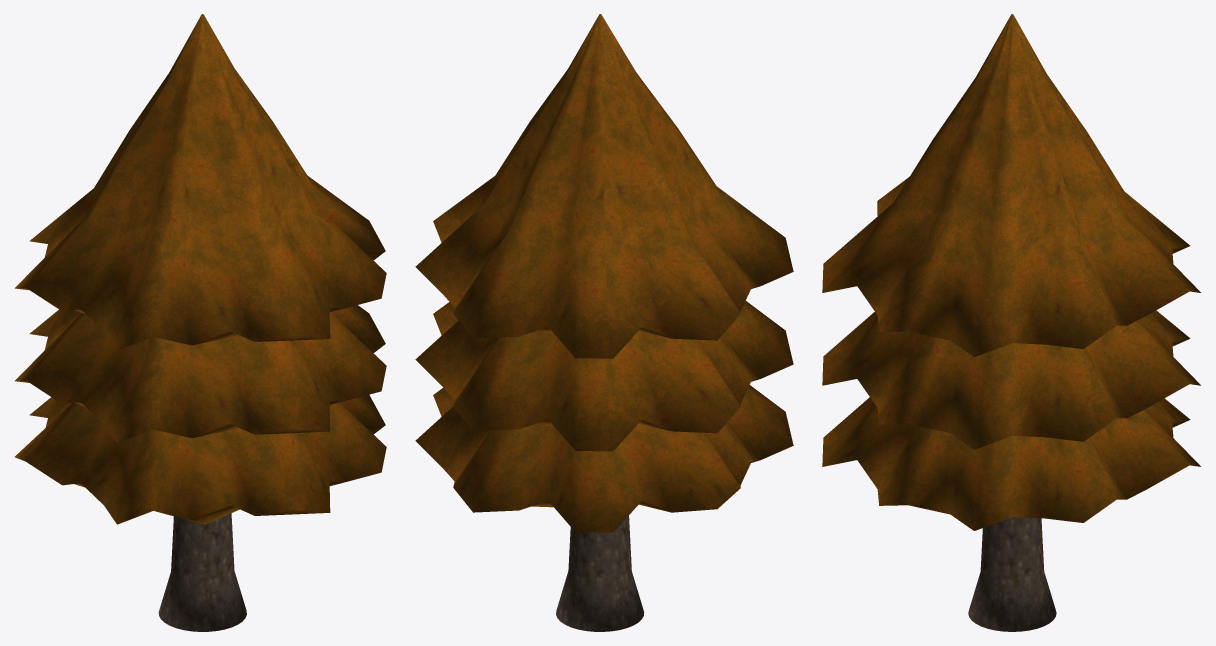
The model's file is FirTreeFall.glb.
3 renders of one model, left to right at view 1: azimuth 30°, elevation 25°; view 2: azimuth 150°, elevation 25°; view 3: azimuth 270°, elevation 25°, orthographic.
Visible parts, largest first — view 1: FirTreeTexturedFall; view 2: FirTreeTexturedFall; view 3: FirTreeTexturedFall.
Part boxes in pixels (bbox=[...]): FirTreeTexturedFall: bbox=[14, 14, 386, 631]; FirTreeTexturedFall: bbox=[415, 14, 793, 631]; FirTreeTexturedFall: bbox=[822, 14, 1200, 631].
Size of the model in its own units: 2.59 by 4.56 by 2.62.
Materials: 2 (2 with a texture image).
